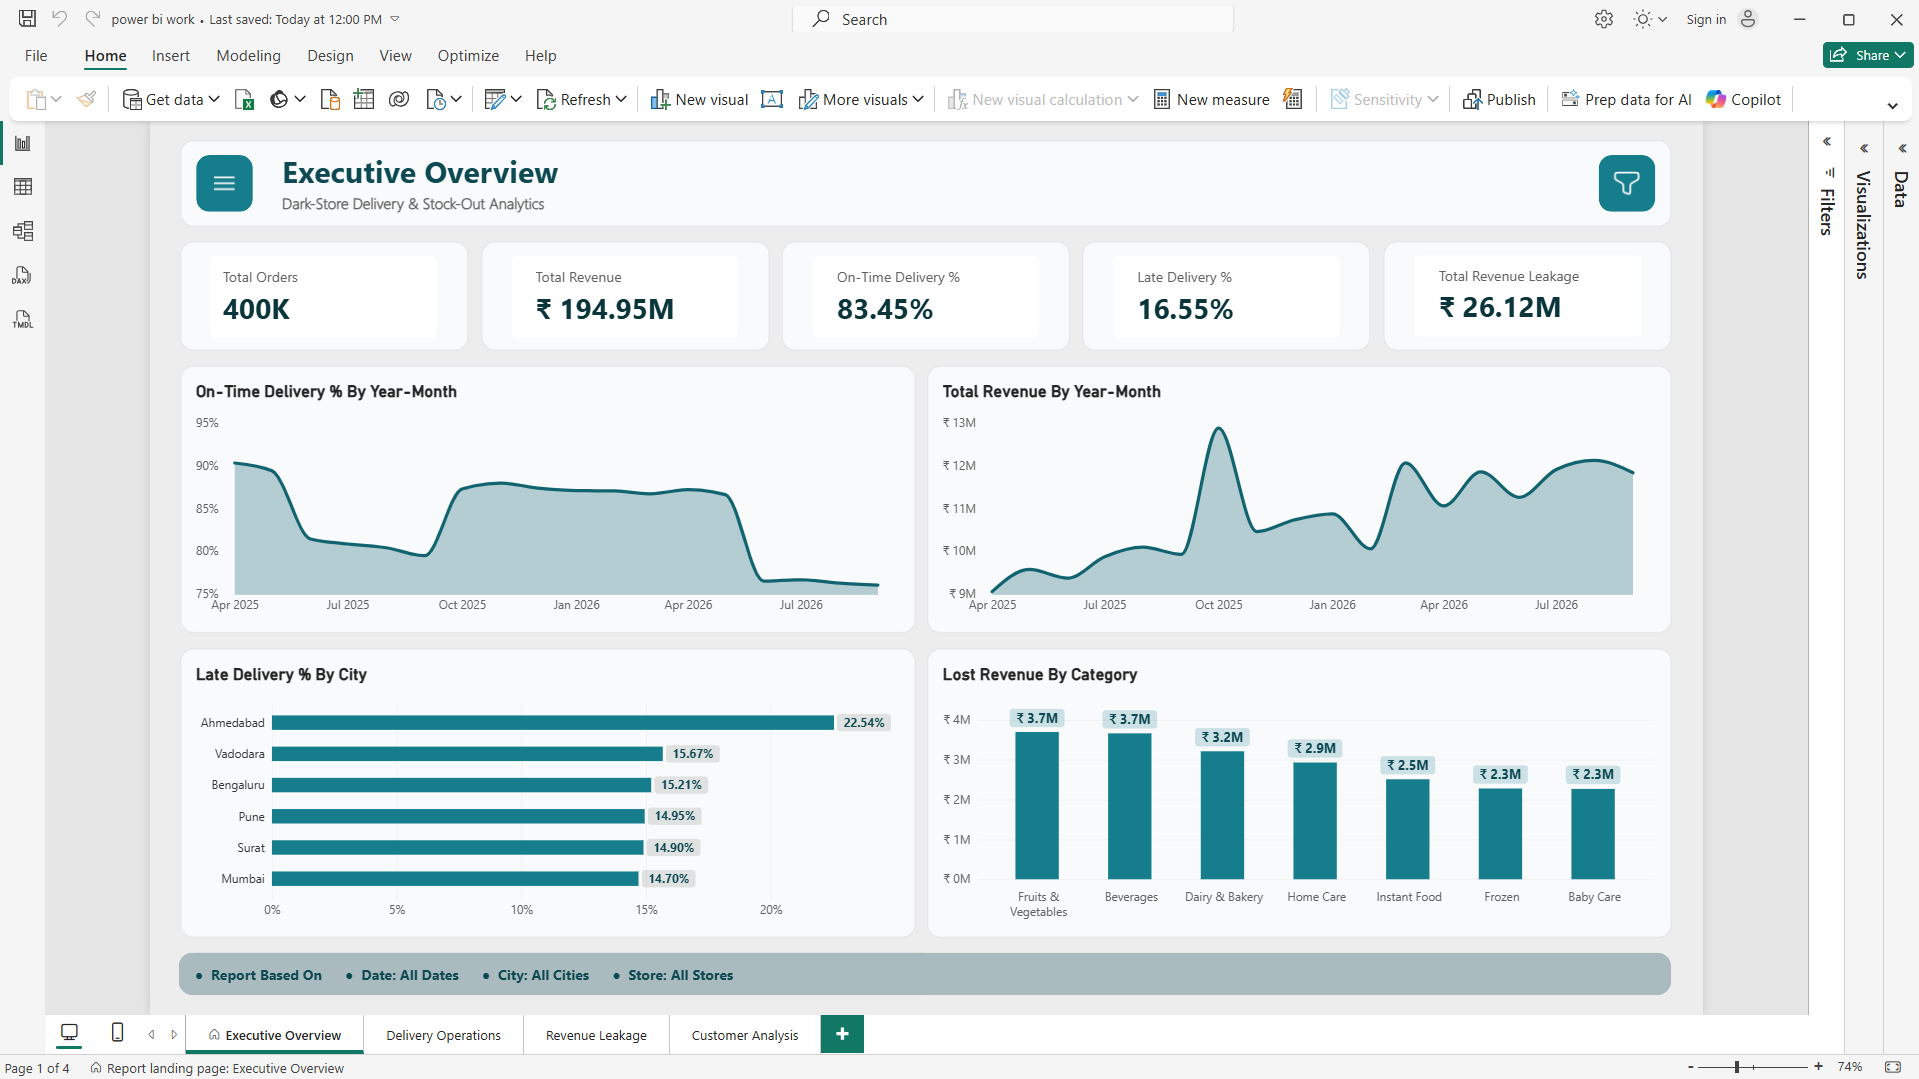

Layout of this report page (visuals, bound fields, positions):
{"tool":"powerbi","page":{"name":"Executive Overview","canvas":[1920,1105],"ordinal":0},"visuals":[{"type":"shape","box":[37.1,22.9,1844.1,108.2],"z":0},{"type":"shape","box":[37.1,301.4,910,331.6],"z":1000},{"type":"shape","box":[37.1,148.2,357.2,136.3],"z":2000},{"type":"shape","box":[960,301.4,921.4,331.6],"z":3000},{"type":"shape","box":[960,651.2,921.4,358.8],"z":4000},{"type":"shape","box":[37.1,651.2,910,358.8],"z":5000},{"type":"shape","box":[35.7,1027.1,1844.5,52.7],"z":6000},{"type":"shape","box":[408.7,148.2,357.2,136.3],"z":7000},{"type":"shape","box":[780.3,148.2,357.2,136.3],"z":8000},{"type":"shape","box":[1151.8,148.2,357.2,136.3],"z":9000},{"type":"shape","box":[1523.4,148.2,357.2,136.3],"z":10000},{"type":"cardVisual","title":"ss","fields":{"Data":["1_Measure.Total Orders"]},"box":[57.1,149.4,314.9,136.2],"z":11000},{"type":"cardVisual","fields":{"Data":["1_Measure.Total Revenue"]},"box":[429.2,149.4,314.9,136.2],"z":12000},{"type":"cardVisual","fields":{"Data":["1_Measure.On-Time Delivery %"]},"box":[802.7,149.4,314.9,136.2],"z":13000},{"type":"cardVisual","fields":{"Data":["1_Measure.Late Delivery %"]},"box":[1173.3,149.4,314.9,136.2],"z":14000},{"type":"cardVisual","fields":{"Data":["Revenue Leakage Analysis.Total Revenue Leakage"]},"box":[1545.4,147.9,314.9,136.2],"z":15000},{"type":"actionButton","box":[56.7,41.7,70,70],"z":16000},{"type":"actionButton","box":[1790,41.7,70,70],"z":17000},{"type":"shape","box":[163.3,58.3,416.2,54.2],"z":18000},{"type":"shape","box":[163.3,31.7,416.2,54.2],"z":19000},{"type":"lineChart","title":"On-Time Delivery % By Year-Month","fields":{"Category":["calender.Date.Variation.Date Hierarchy.Year","calender.Date.Variation.Date Hierarchy.Month"],"Y":["1_Measure.On-Time Delivery %"]},"box":[37.1,301.4,910,331.4],"z":20000},{"type":"lineChart","title":"Total Revenue By Year-Month","fields":{"Category":["calender.Date.Variation.Date Hierarchy.Year","calender.Date.Variation.Date Hierarchy.Month"],"Y":["1_Measure.Total Revenue"]},"box":[960,301.4,920,331.4],"z":21000},{"type":"clusteredBarChart","title":"Late Delivery % By City","fields":{"Category":["stores.city"],"Y":["1_Measure.Late Delivery %"]},"box":[37.3,651.3,909.5,358.6],"z":22000},{"type":"columnChart","title":"Lost Revenue By Category","fields":{"Category":["products.category"],"Y":["Revenue Leakage Analysis.Total Revenue Leakage"]},"box":[960,651.4,920,358.6],"z":23000}]}

Visuals, with their boxes on the page's 1920x1105 design canvas (x1, y1, x2, y2). These are canvas units, not pixel positions in the 1919x1079 screenshot, which may show the page scaled, cropped or inside an application window:
shape: Rect(37, 23, 1881, 131)
shape: Rect(37, 301, 947, 633)
shape: Rect(37, 148, 394, 284)
shape: Rect(960, 301, 1881, 633)
shape: Rect(960, 651, 1881, 1010)
shape: Rect(37, 651, 947, 1010)
shape: Rect(36, 1027, 1880, 1080)
shape: Rect(409, 148, 766, 284)
shape: Rect(780, 148, 1138, 284)
shape: Rect(1152, 148, 1509, 284)
shape: Rect(1523, 148, 1881, 284)
"ss" cardVisual: Rect(57, 149, 372, 286)
cardVisual - 1_Measure.Total Revenue: Rect(429, 149, 744, 286)
cardVisual - 1_Measure.On-Time Delivery %: Rect(803, 149, 1118, 286)
cardVisual - 1_Measure.Late Delivery %: Rect(1173, 149, 1488, 286)
cardVisual - Revenue Leakage Analysis.Total Revenue Leakage: Rect(1545, 148, 1860, 284)
actionButton: Rect(57, 42, 127, 112)
actionButton: Rect(1790, 42, 1860, 112)
shape: Rect(163, 58, 580, 112)
shape: Rect(163, 32, 580, 86)
"On-Time Delivery % By Year-Month" lineChart: Rect(37, 301, 947, 633)
"Total Revenue By Year-Month" lineChart: Rect(960, 301, 1880, 633)
"Late Delivery % By City" clusteredBarChart: Rect(37, 651, 947, 1010)
"Lost Revenue By Category" columnChart: Rect(960, 651, 1880, 1010)
